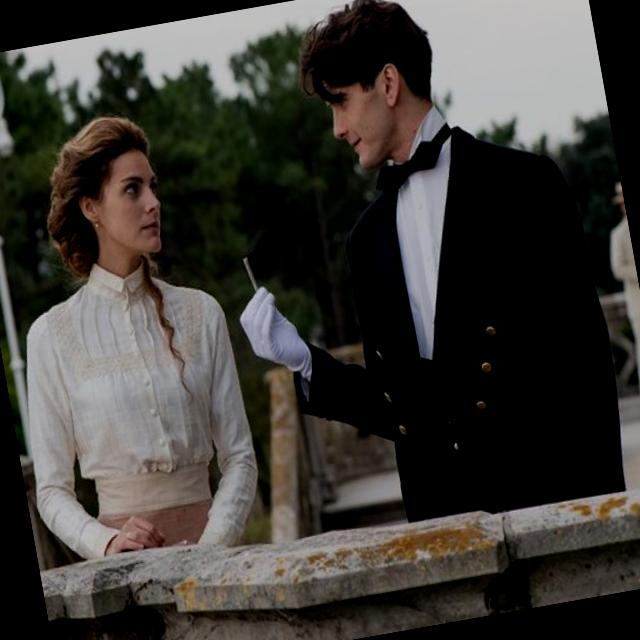smoke: (240, 250, 266, 308)
